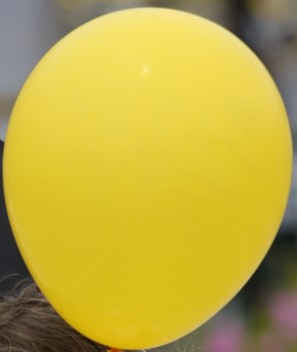Balloon: (2, 7, 294, 350)
